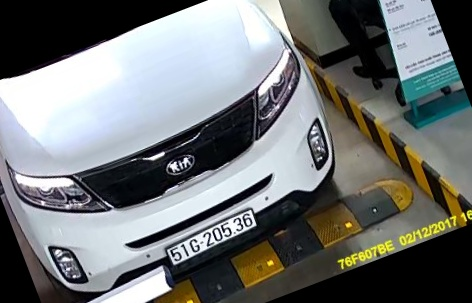plate: (156, 216, 269, 262)
